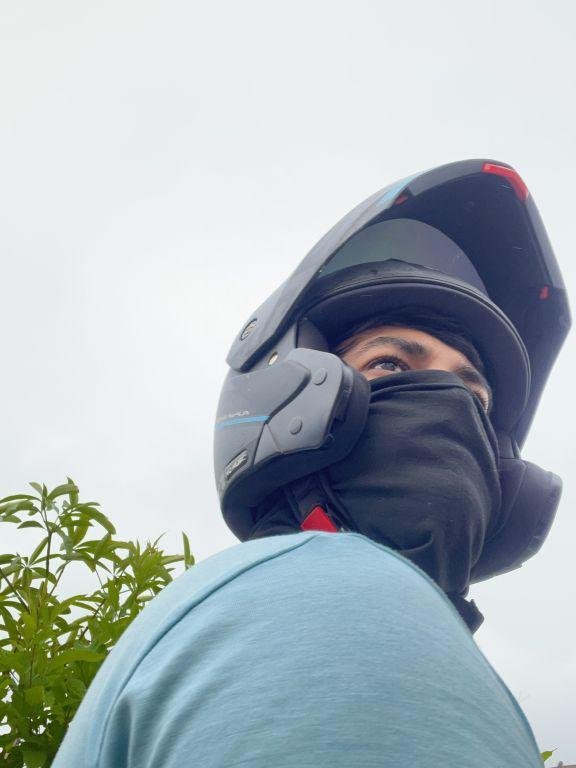helmet: (199, 147, 576, 579)
